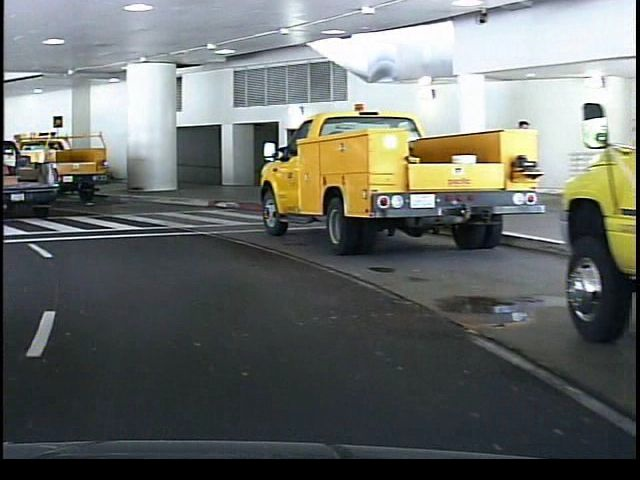person: (503, 112, 537, 218)
